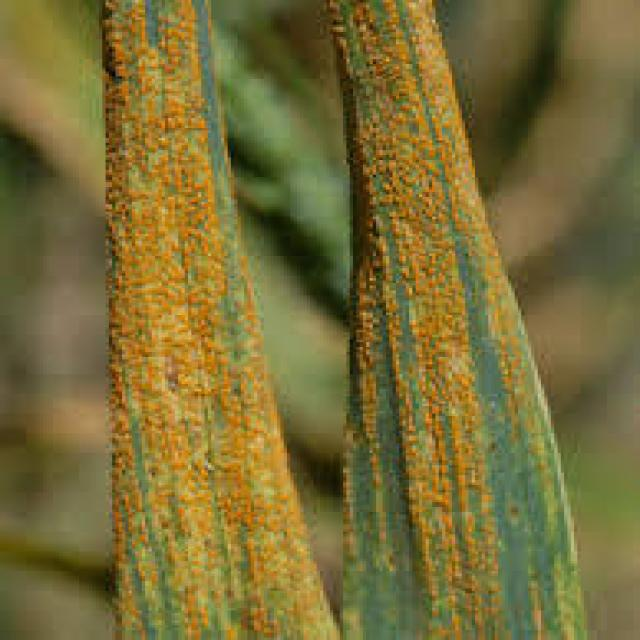wheat-yellowrust: (96, 0, 591, 640)
